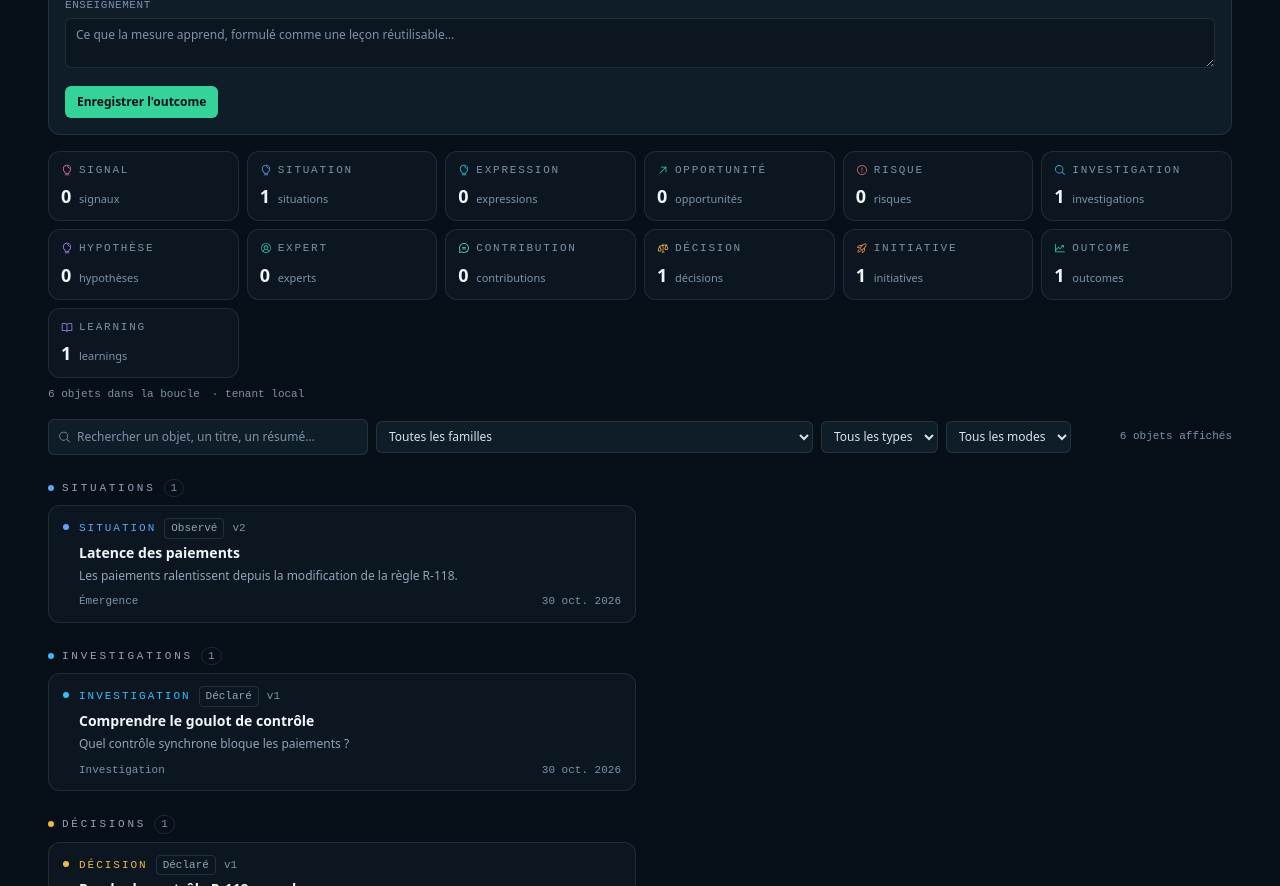
Scenario: les filtres famille, type et mode sont présents et le type interroge l'API
Later steps or results of the test are not shown.
(page scrolled)
Expected: the dropdown with test id "boucle-filtre-famille" is shown, [376,420,813,452]
Expected: the dropdown with test id "boucle-filtre-mode" is shown, [946,420,1071,452]
Select "Décision" in the dropdown with test id "boucle-filtre-type" at (880, 436), box [821,420,938,452]
(page scrolled)
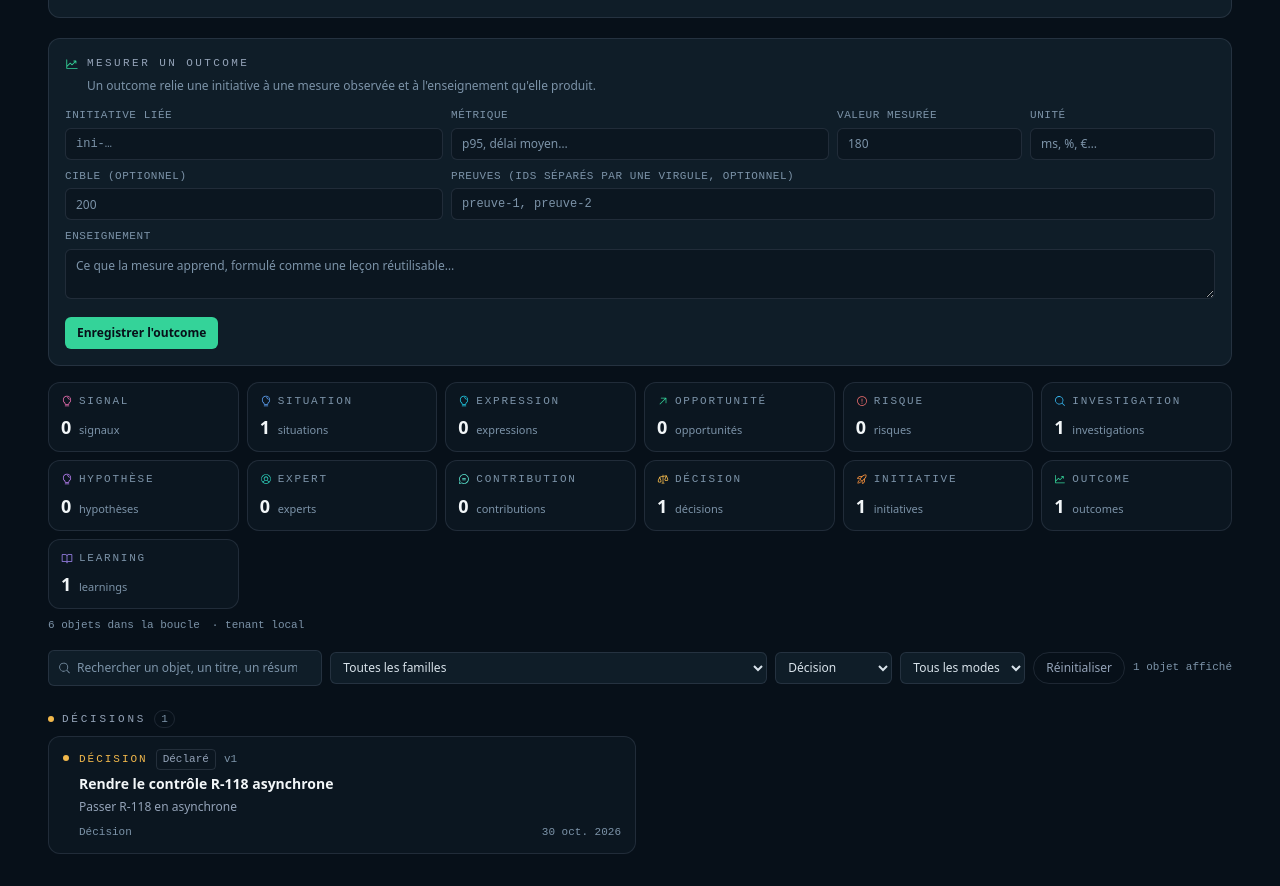
Expected: the element with test id "boucle-section-decision" is shown, [48,710,636,854]
Result: the element with test id "boucle-section-situation" is gone
Result: the text with test id "boucle-nb-resultats" reads "1 objet affiché" at [1133,659,1232,676]
